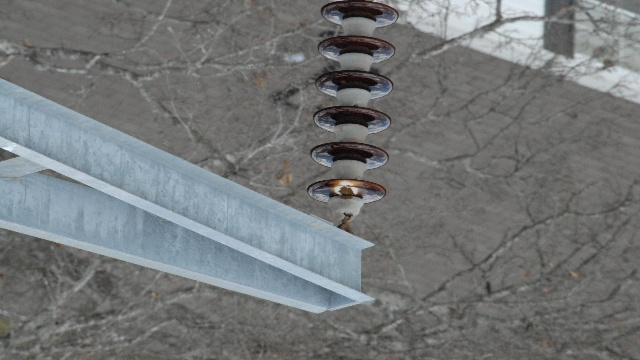insulator_unspecified: (308, 0, 398, 206)
pollution_flashover_local: (330, 178, 357, 197)
